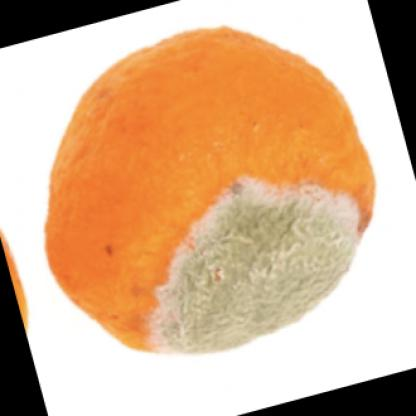rotten_orange: (45, 19, 378, 367)
